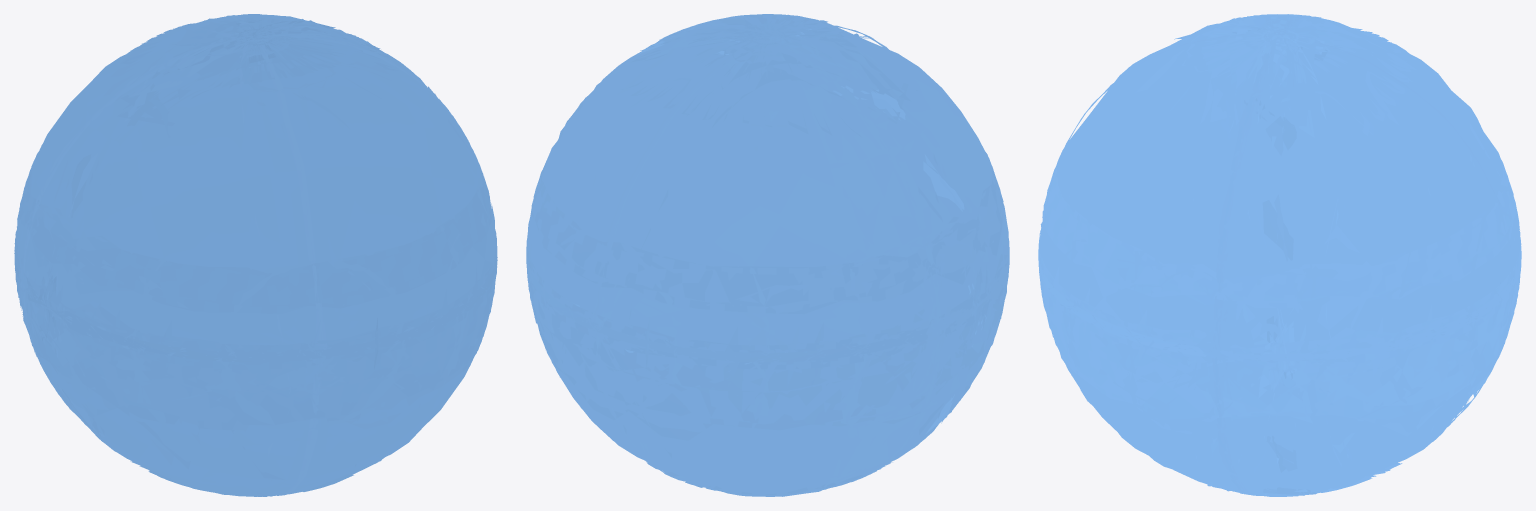
Rendered from tank-C5.glb.
3 renders of one model, left to right at view 1: azimuth 30°, elevation 25°; view 2: azimuth 150°, elevation 25°; view 3: azimuth 270°, elevation 25°, orthographic.
Visible parts, largest first — view 1: buoyancy_tanks; view 2: buoyancy_tanks; view 3: buoyancy_tanks.
Boxes of the visible parts, x1,y1,x2,y2 form: buoyancy_tanks: (14, 14, 497, 496); buoyancy_tanks: (526, 14, 1009, 496); buoyancy_tanks: (1038, 14, 1521, 496).
Size of the model in its own units: 2 by 2 by 2.
